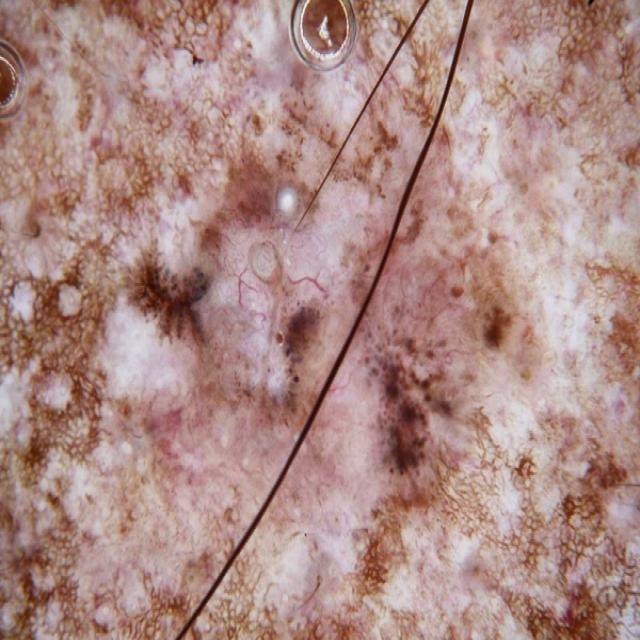Basal-Cell-Carcinoma-BCC-: (12, 20, 600, 610)
